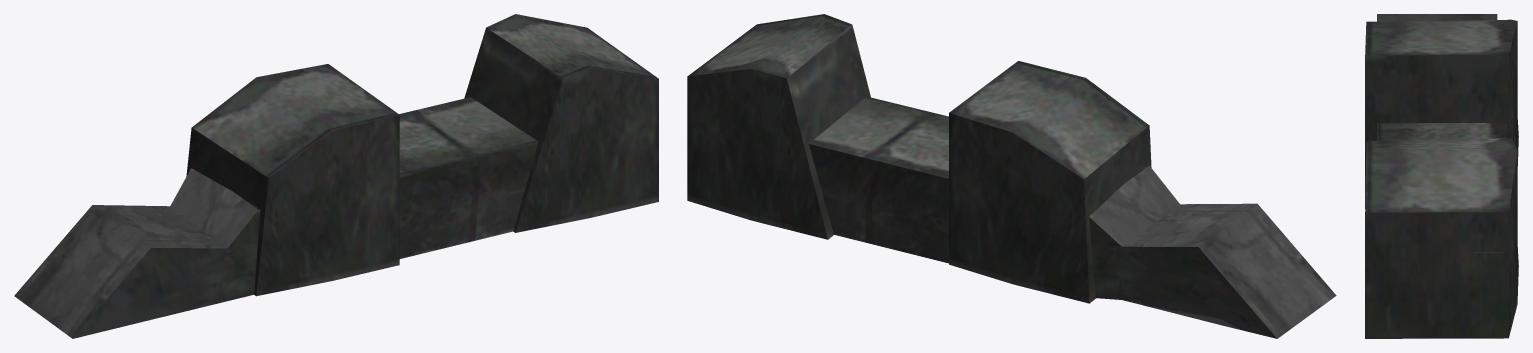
File: environment_Building_qiaoliang_005_b.FBX
The picture shows the model from 3 angles, left to right: view 1: azimuth 30°, elevation 25°; view 2: azimuth 150°, elevation 25°; view 3: azimuth 270°, elevation 25°; orthographic projection. The views are drawn at different scales.
Visible parts, largest first — view 1: environment_Building_qiaoliang_005_b; view 2: environment_Building_qiaoliang_005_b; view 3: environment_Building_qiaoliang_005_b.
Part boxes in pixels (left/top/right/bottom): environment_Building_qiaoliang_005_b: left=14, top=14, right=658, bottom=338; environment_Building_qiaoliang_005_b: left=687, top=14, right=1336, bottom=338; environment_Building_qiaoliang_005_b: left=1365, top=14, right=1518, bottom=338.
Size of the model in its own units: 109 by 26.86 by 24.31.
